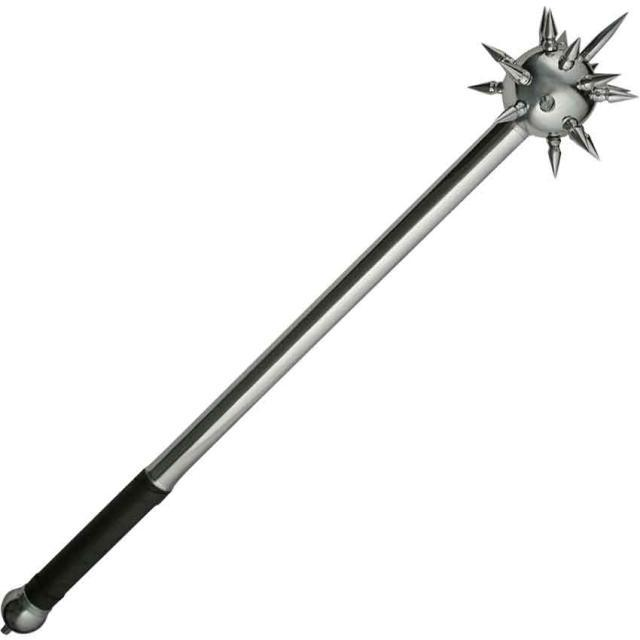morningstar: (1, 3, 637, 640)
